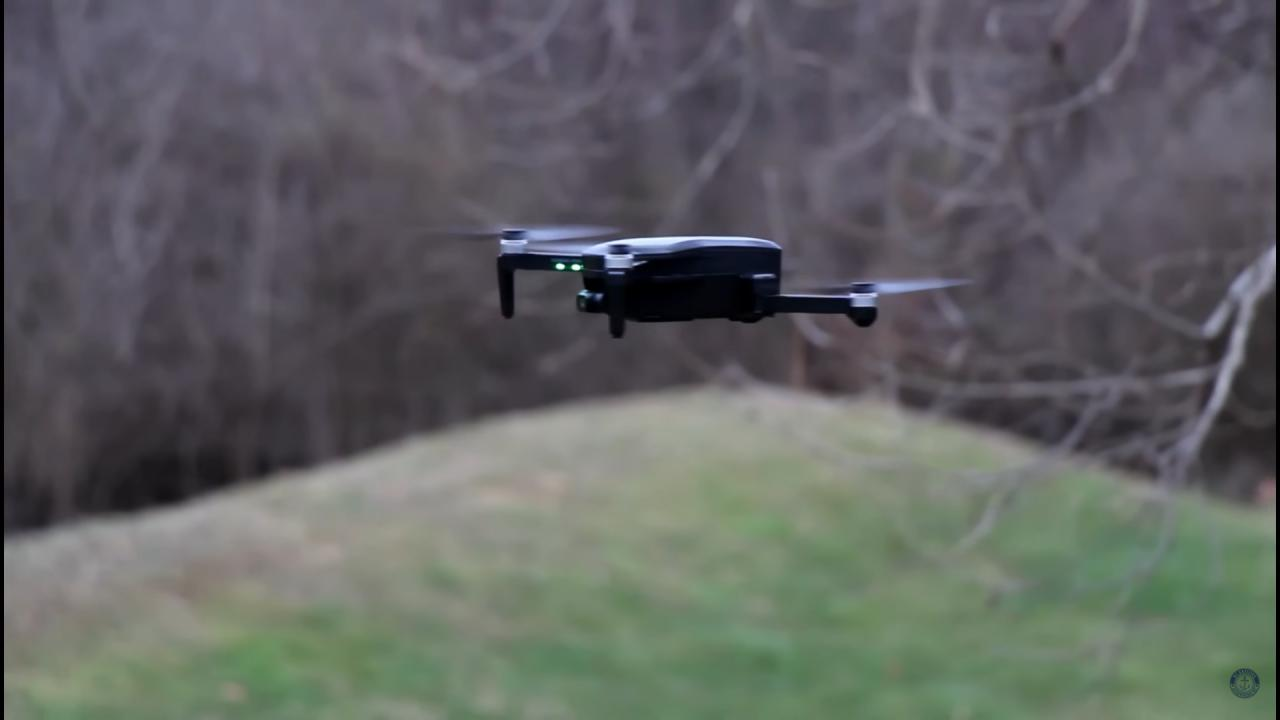Drone: (384, 170, 1003, 376)
